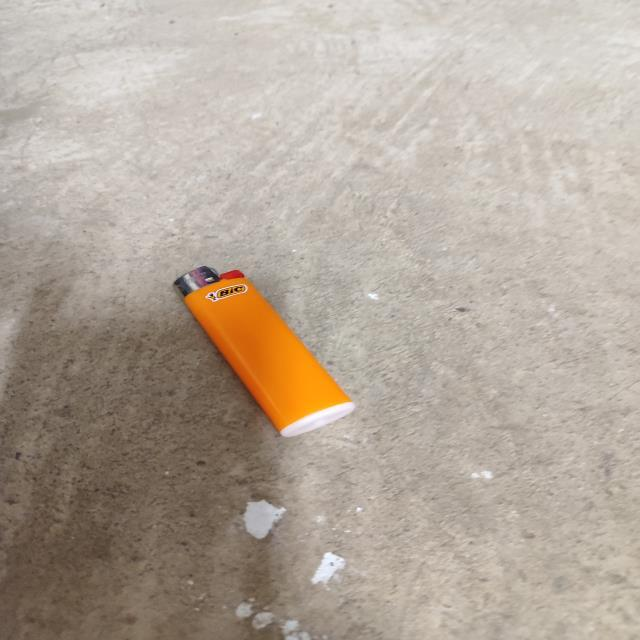lighter: (175, 266, 352, 436)
